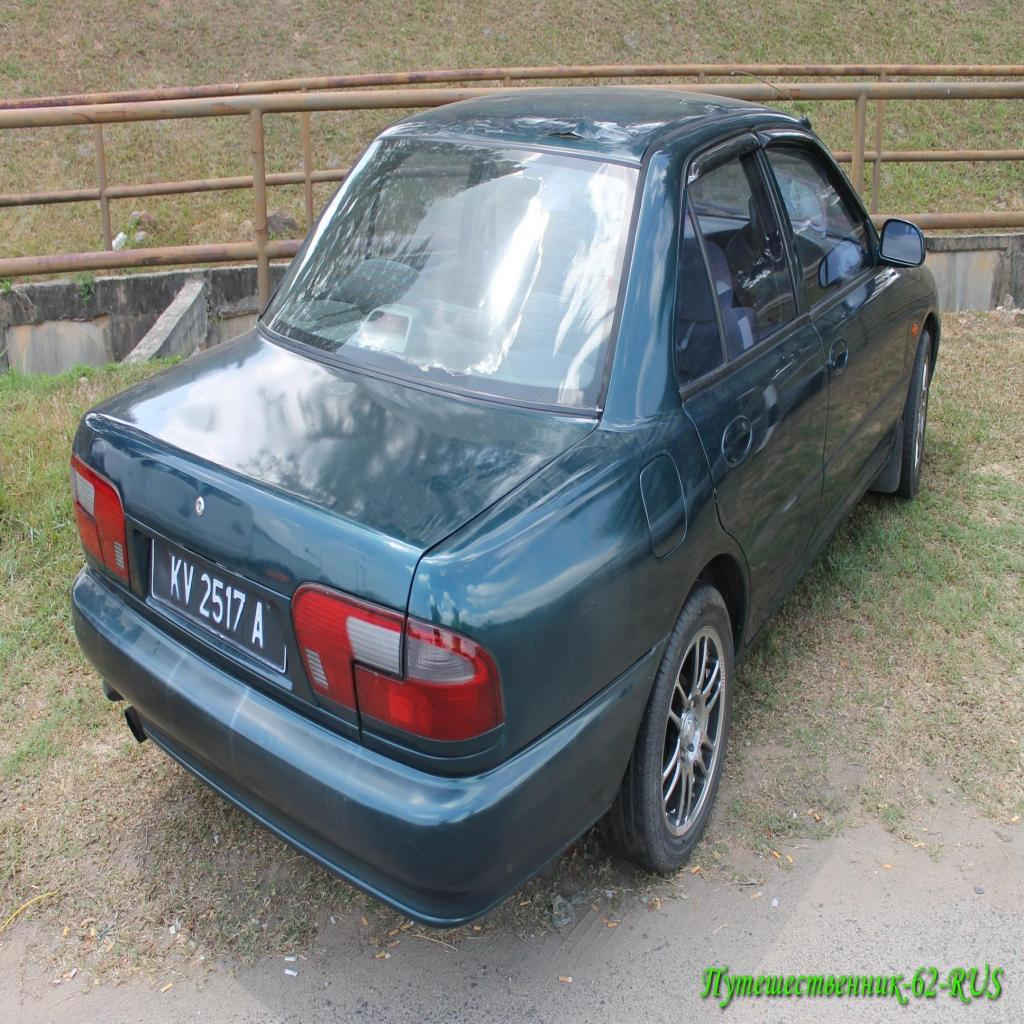car: (70, 87, 939, 923)
car plate: (150, 539, 286, 671)
